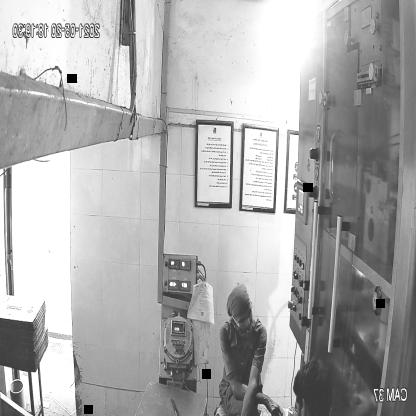goggles: (230, 304, 254, 333)
